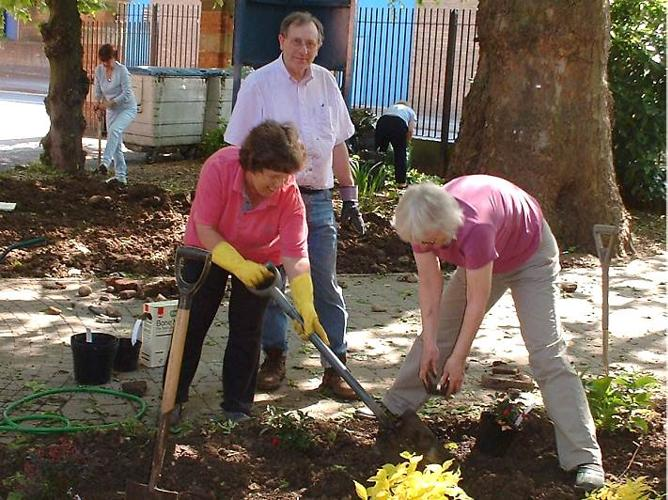person: (372, 169, 607, 490)
